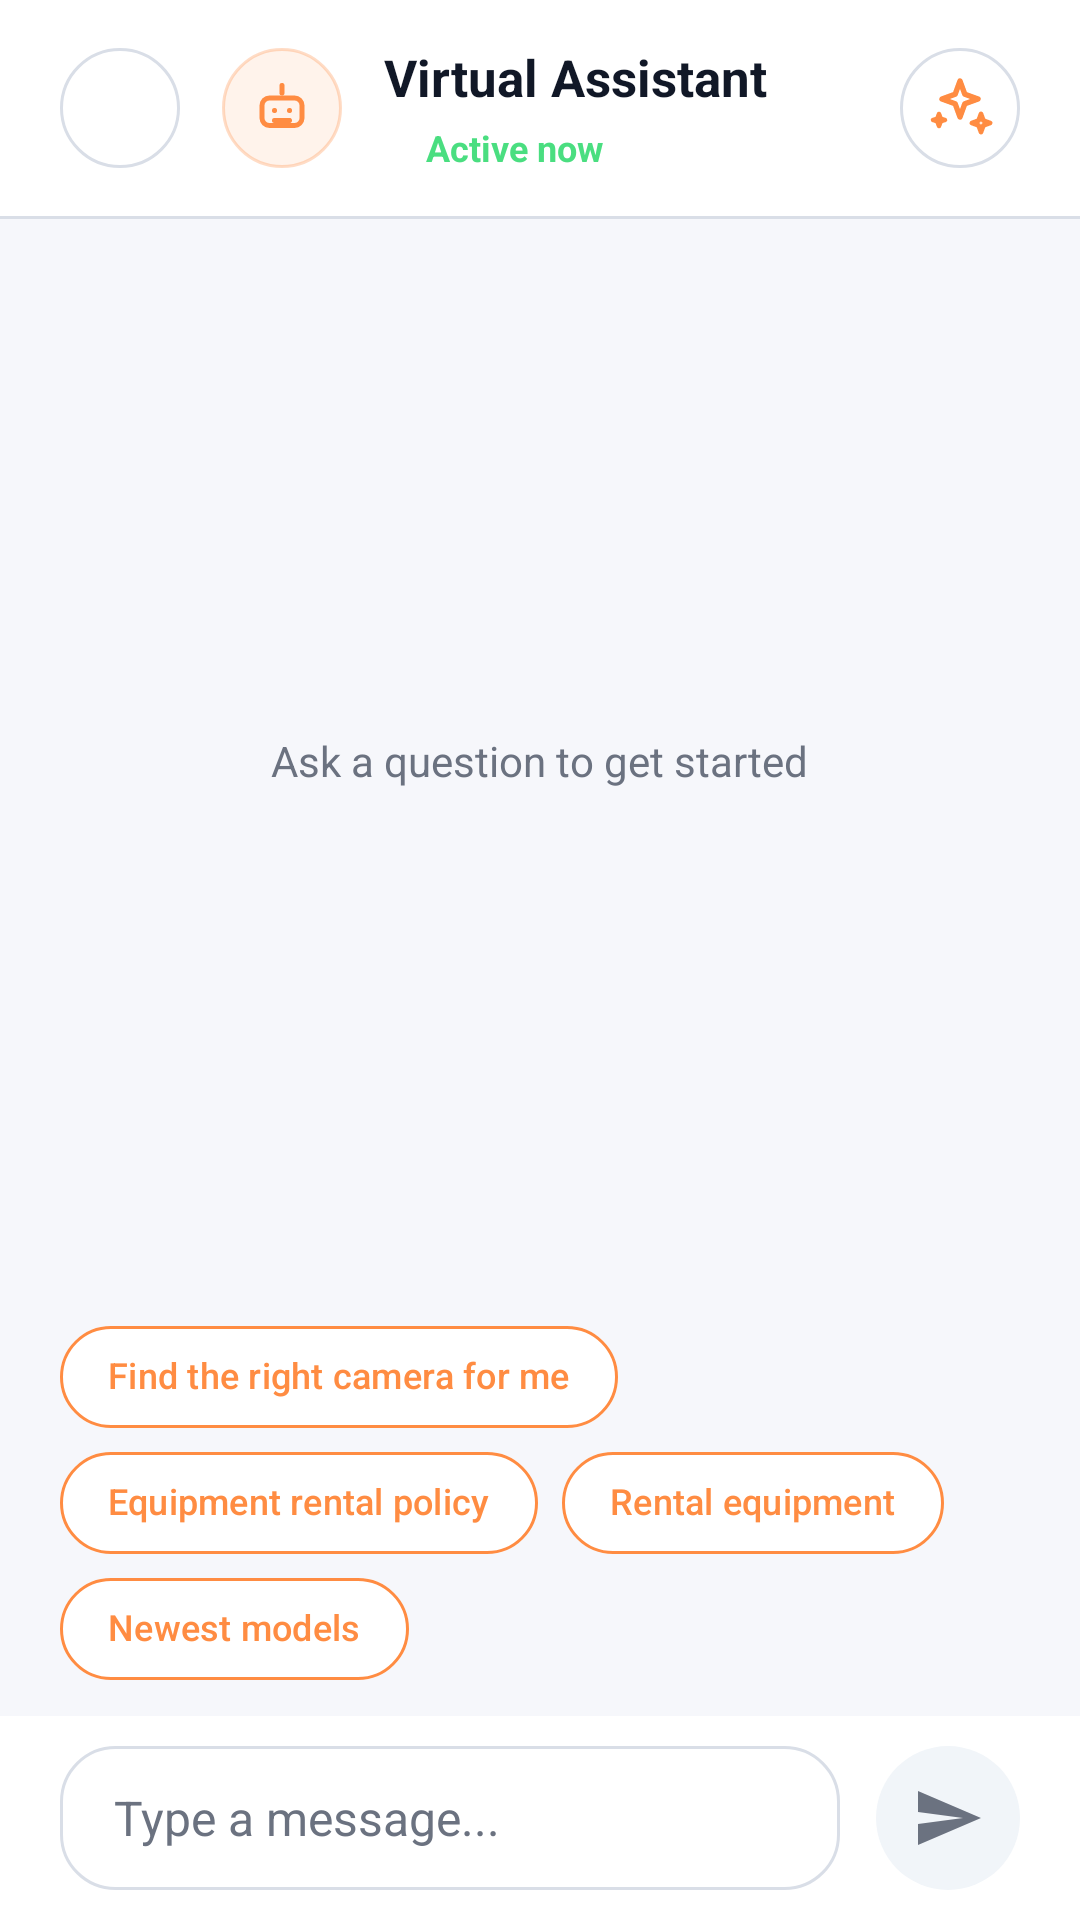

Named icons in this screenshot (1080 x 1920) and their centers, [x,y]:
robot: [282,105]
Send: [948,1818]
